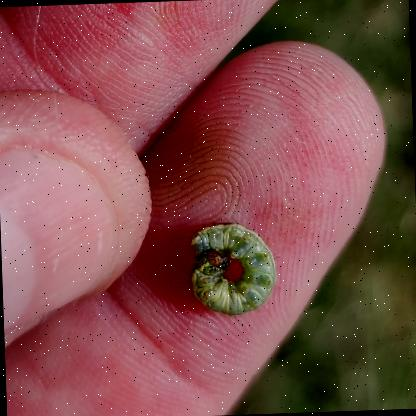Fall Armyworm Larvae: (182, 213, 284, 323)
